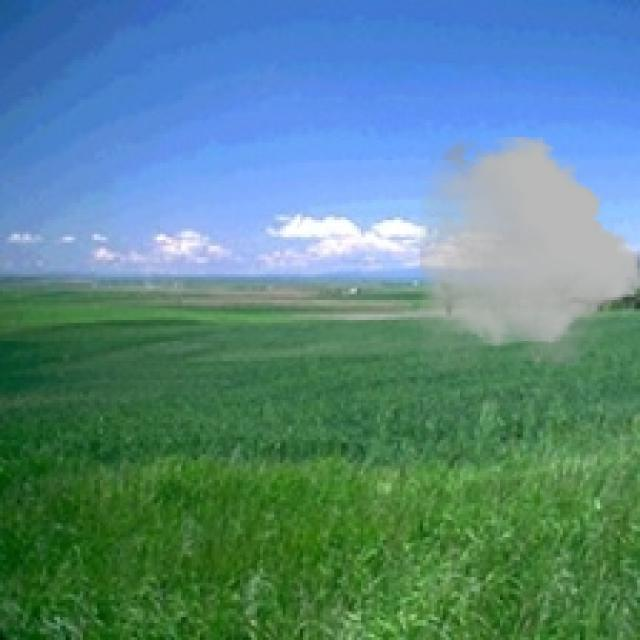Smoke: (420, 132, 637, 378)
